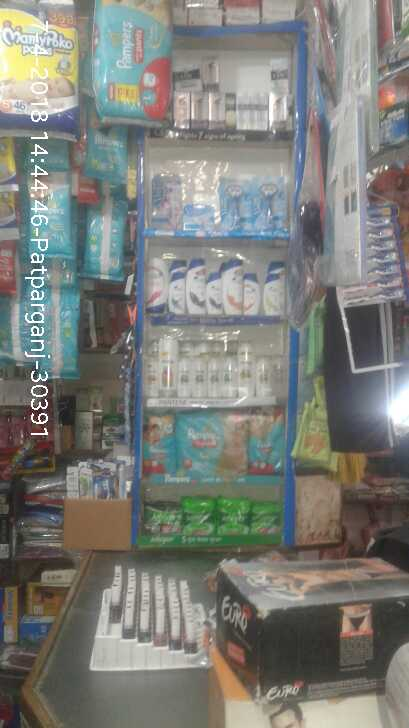venus: (220, 175, 255, 230), (256, 175, 289, 231), (151, 174, 181, 230), (184, 203, 215, 232)
